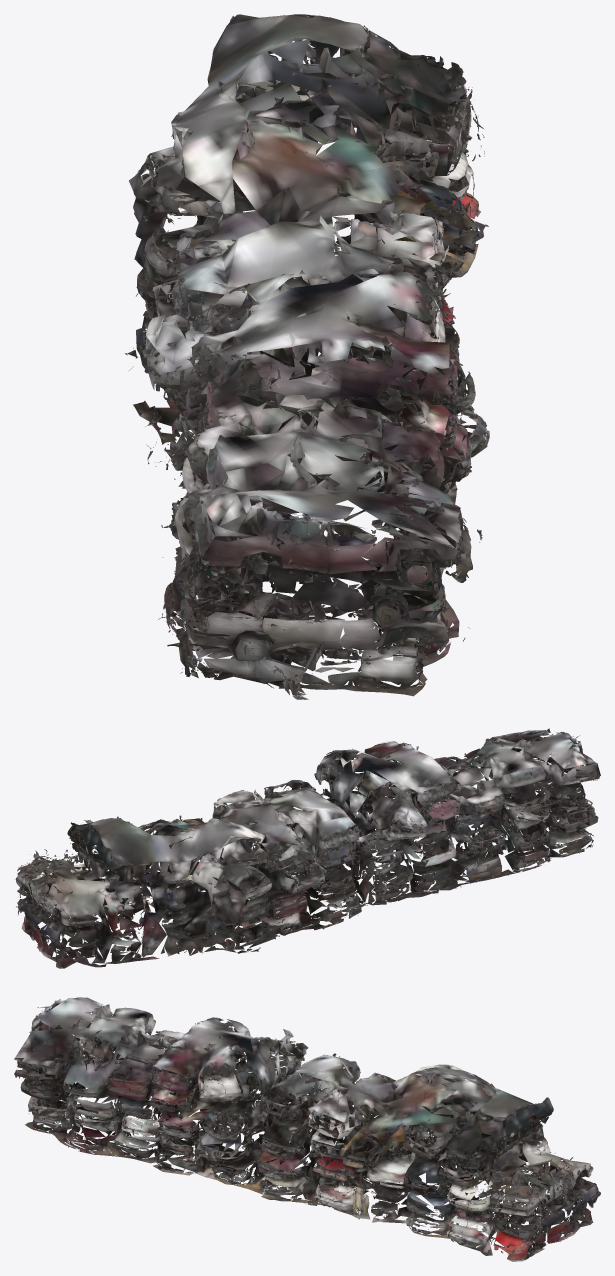
File: wall_of_cars.glb
3 renders of one model, top to bottom at view 1: azimuth 30°, elevation 25°; view 2: azimuth 150°, elevation 25°; view 3: azimuth 270°, elevation 25°, orthographic. The views are drawn at different scales.
Visible parts, largest first — view 1: Object_2, Object_4, Object_17, Object_13, Object_18, Object_14, Object_29, Object_24, Object_34, Object_33, Object_20, Object_16 (+16 smaller); view 2: Object_2, Object_15, Object_9, Object_20, Object_10, Object_29, Object_16, Object_25, Object_3, Object_4, Object_17, Object_24 (+22 smaller); view 3: Object_2, Object_4, Object_13, Object_12, Object_33, Object_6, Object_34, Object_21, Object_19, Object_32, Object_8, Object_18 (+22 smaller).
Boxes of the visible parts, left/top/right/bottom form: Object_2: left=127, top=14, right=478, bottom=610; Object_4: left=163, top=179, right=467, bottom=638; Object_17: left=137, top=323, right=384, bottom=689; Object_13: left=292, top=454, right=472, bottom=698; Object_18: left=203, top=415, right=456, bottom=699; Object_14: left=140, top=40, right=468, bottom=694; Object_29: left=184, top=407, right=473, bottom=557; Object_24: left=187, top=336, right=489, bottom=485; Object_34: left=174, top=14, right=472, bottom=625; Object_33: left=222, top=30, right=465, bottom=361; Object_20: left=129, top=277, right=352, bottom=688; Object_16: left=138, top=93, right=322, bottom=451; Object_2: left=80, top=732, right=595, bottom=951; Object_15: left=126, top=836, right=272, bottom=957; Object_9: left=37, top=795, right=596, bottom=963; Object_20: left=342, top=755, right=562, bottom=915; Object_10: left=49, top=814, right=503, bottom=968; Object_29: left=368, top=739, right=596, bottom=831; Object_16: left=129, top=782, right=424, bottom=958; Object_25: left=227, top=768, right=501, bottom=936; Object_3: left=196, top=793, right=343, bottom=913; Object_4: left=224, top=741, right=470, bottom=876; Object_17: left=353, top=728, right=600, bottom=904; Object_24: left=409, top=766, right=504, bottom=829; Object_2: left=31, top=997, right=552, bottom=1194; Object_4: left=79, top=1018, right=406, bottom=1163; Object_13: left=14, top=1017, right=119, bottom=1149; Object_12: left=15, top=1016, right=369, bottom=1219; Object_33: left=235, top=1058, right=503, bottom=1169; Object_6: left=199, top=1098, right=339, bottom=1201; Object_34: left=156, top=1030, right=553, bottom=1180; Object_21: left=209, top=1028, right=567, bottom=1261; Object_19: left=70, top=1044, right=153, bottom=1157; Object_32: left=239, top=1041, right=335, bottom=1154; Object_8: left=77, top=1040, right=503, bottom=1238; Object_18: left=35, top=998, right=174, bottom=1171.
Size of the model in its own units: 23.76 by 7.71 by 32.78.
1 material, 1 textured.
